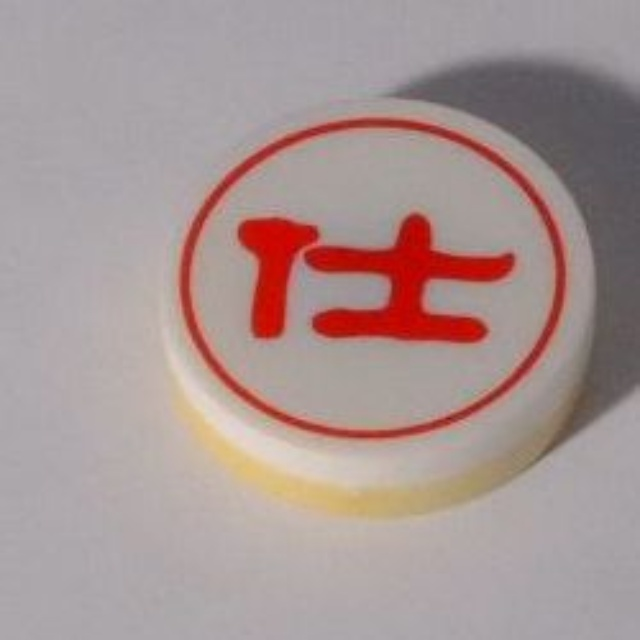red_si: (154, 89, 605, 523)
